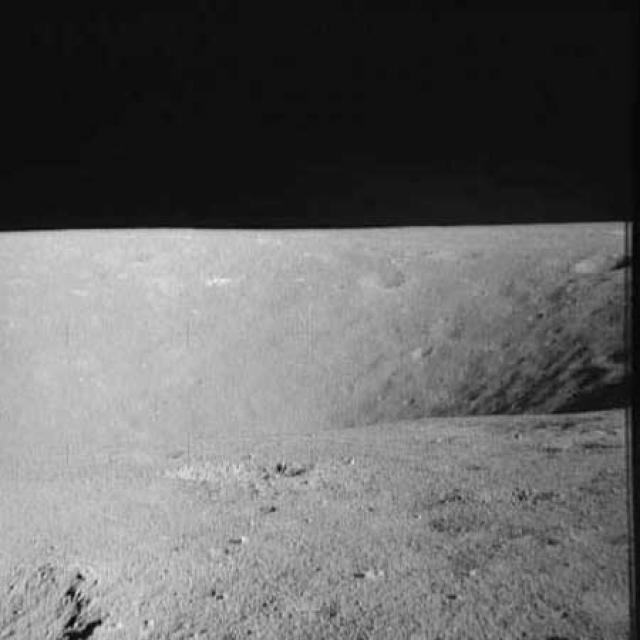crater: (0, 550, 113, 639), (141, 448, 317, 496), (560, 251, 634, 275), (354, 266, 414, 294), (414, 242, 486, 265), (458, 379, 493, 408), (478, 274, 521, 295), (435, 318, 468, 343), (489, 332, 519, 352), (522, 306, 556, 323), (546, 321, 576, 339), (506, 346, 530, 368), (409, 342, 433, 360)
rock: (345, 558, 386, 586)
